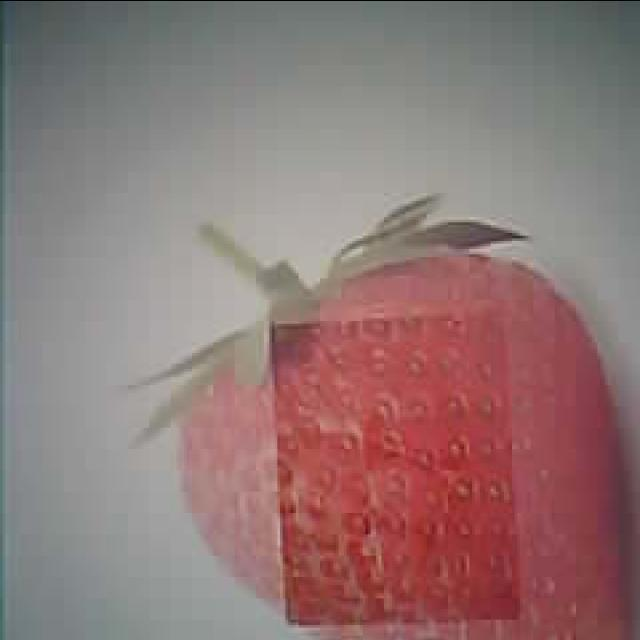ripe: (176, 252, 640, 640)
